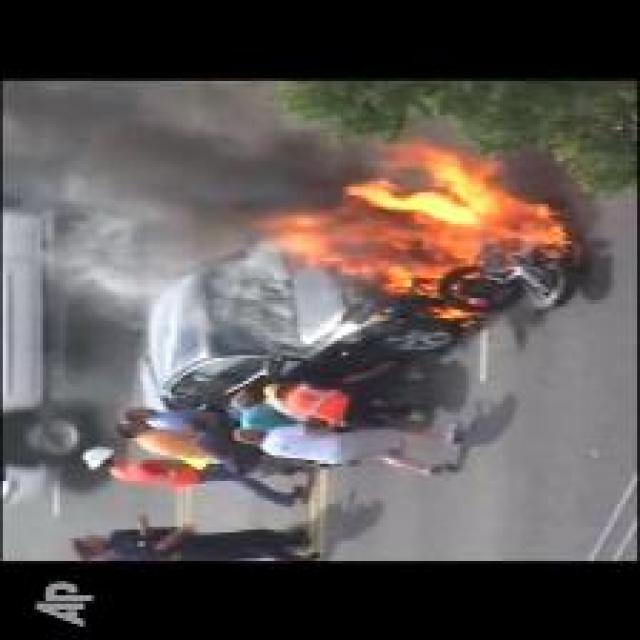Fire: (252, 140, 572, 292)
